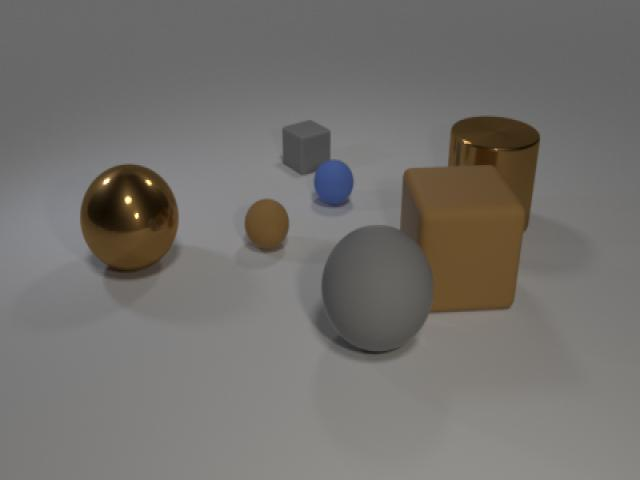cylinder: (442, 111, 544, 240)
round ball: (314, 217, 440, 362), (72, 154, 185, 278), (240, 193, 294, 253), (306, 153, 358, 208)
